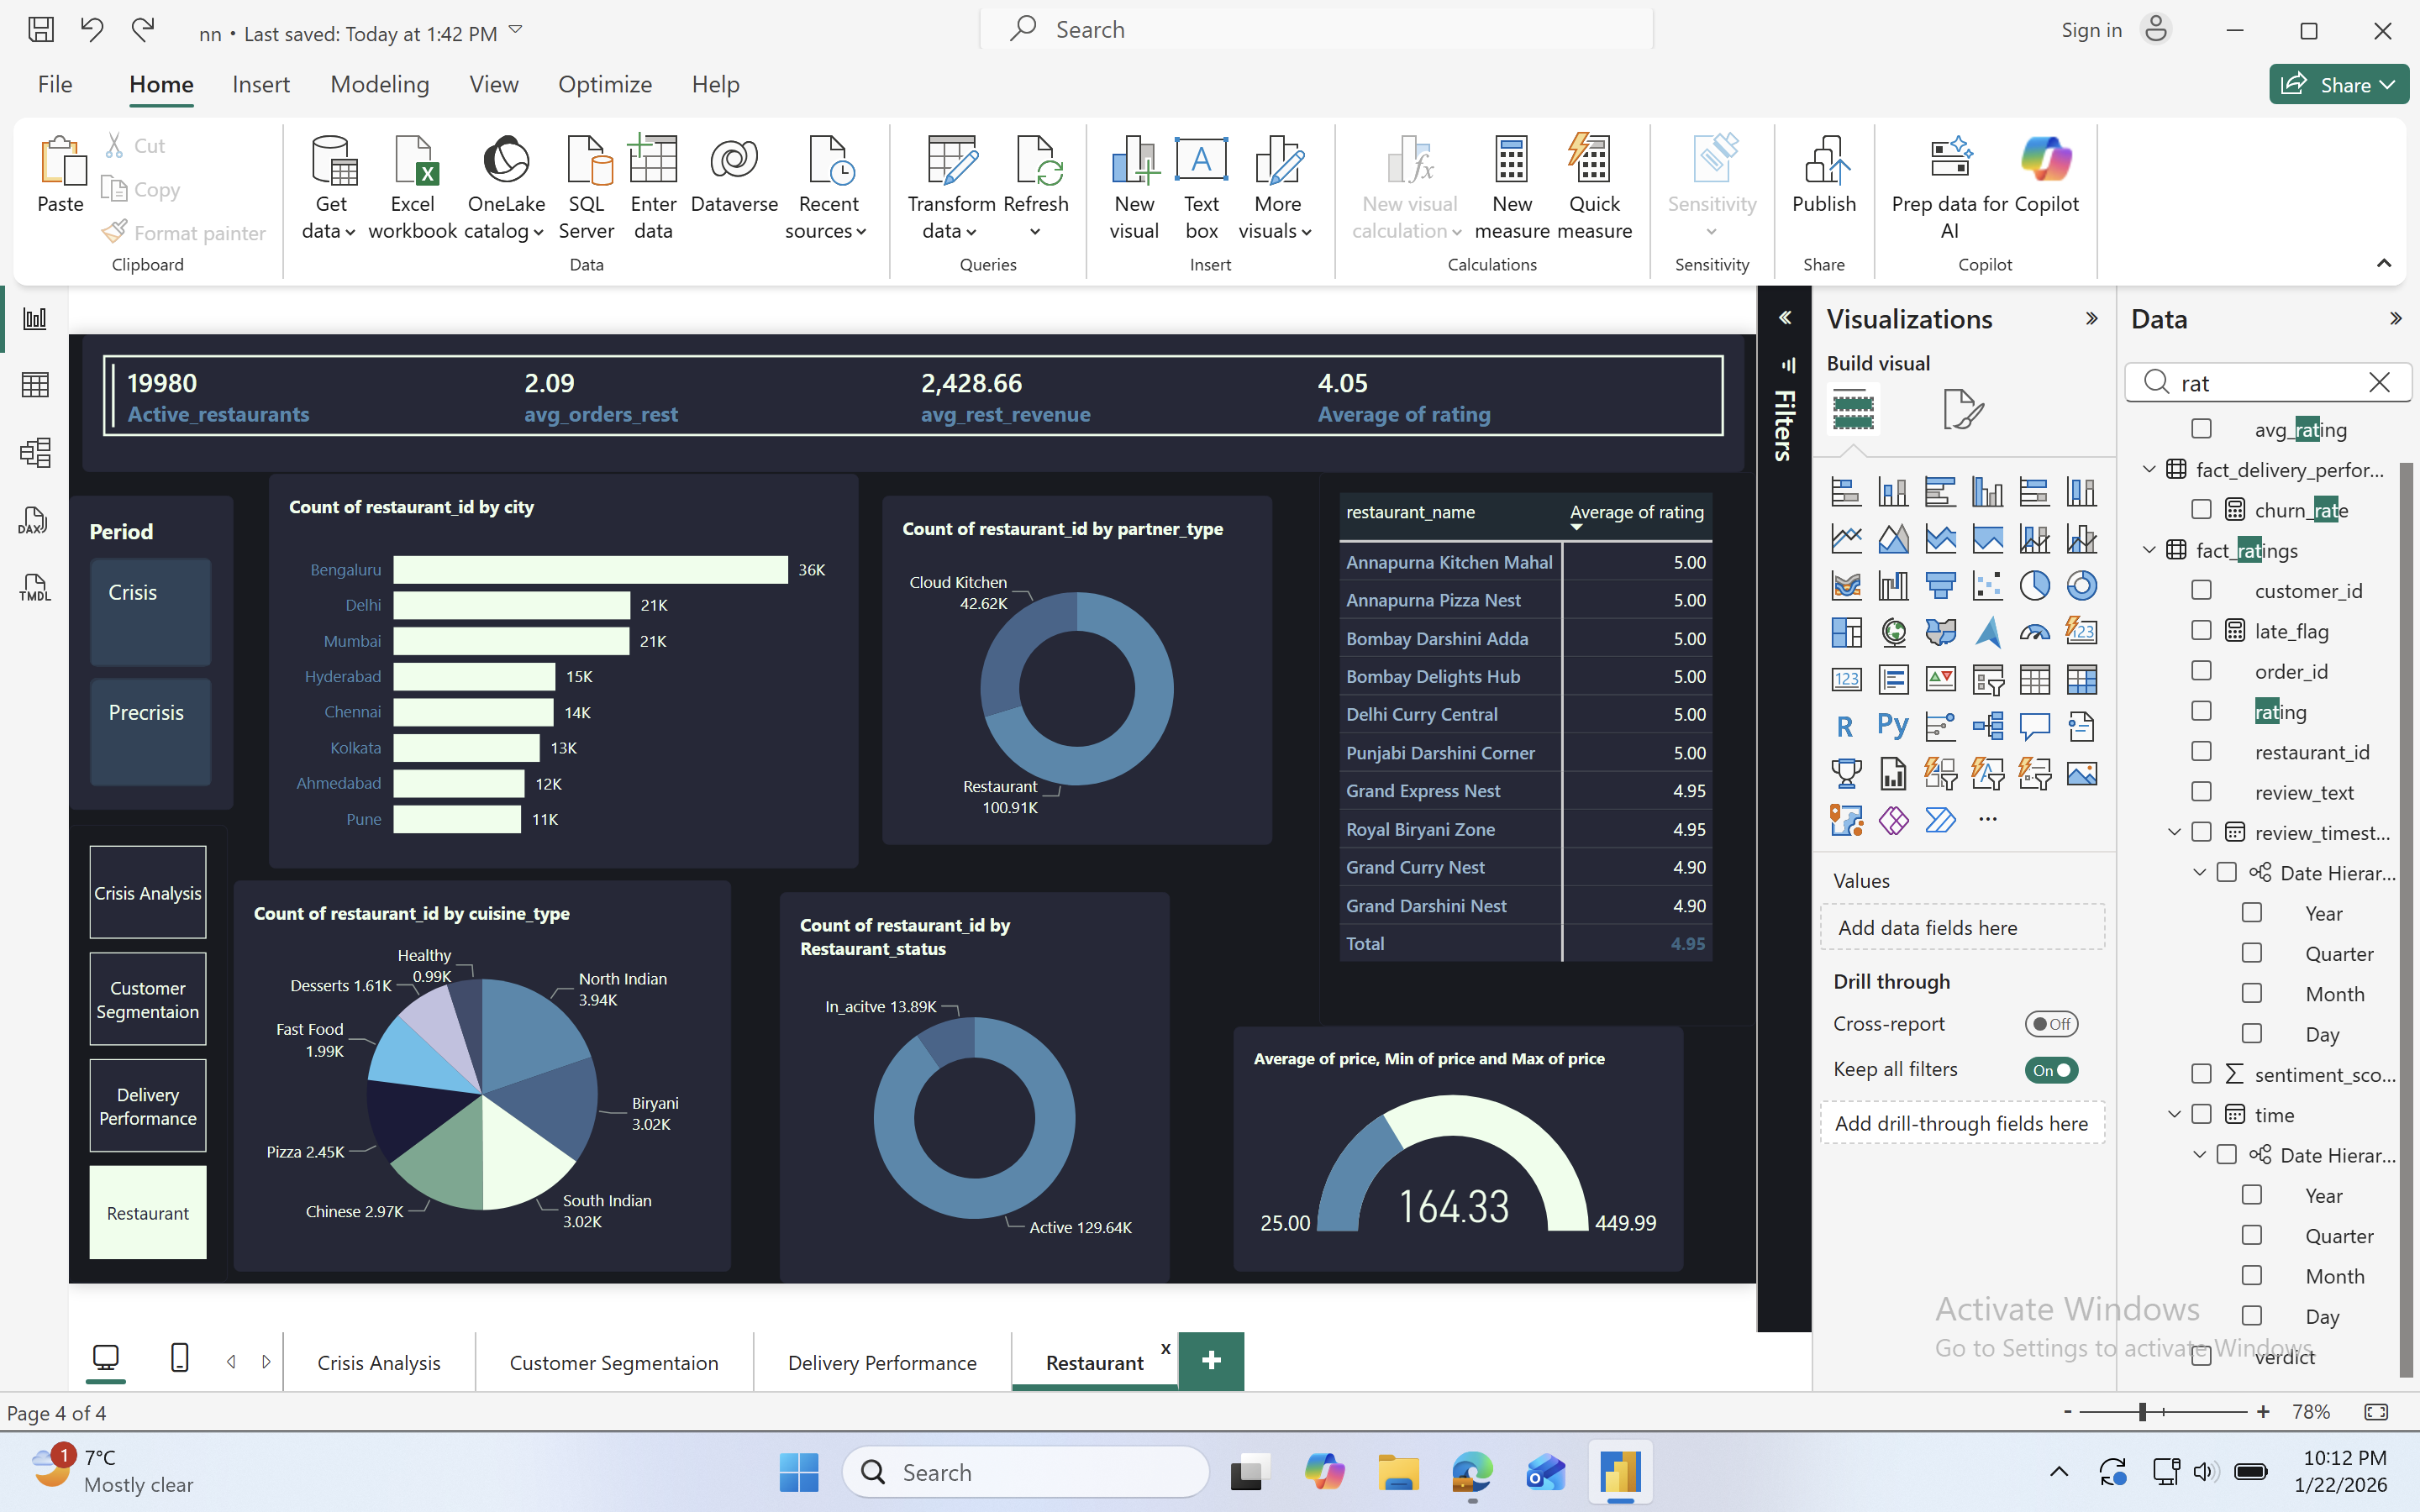

The dashboard page shown, as its layout file describes it:
{"tool":"powerbi","page":{"name":"Restaurant","canvas":[1280,720],"ordinal":3},"visuals":[{"type":"barChart","fields":{"Category":["dim_restaurant.city"],"Y":["CountNonNull(orders.restaurant_id)"]},"box":[151.7,105.8,447.5,299.6],"z":0},{"type":"donutChart","fields":{"Category":["dim_restaurant.partner_type"],"Y":["CountNonNull(orders.restaurant_id)"]},"box":[617.1,122.4,295.8,265.2],"z":1000},{"type":"pieChart","fields":{"Category":["dim_restaurant.cuisine_type"],"Y":["CountNonNull(dim_restaurant.restaurant_id)"]},"box":[124.9,414.3,377.4,297.1],"z":2000},{"type":"pivotTable","fields":{"Rows":["dim_restaurant.restaurant_name"],"Values":["Avg(fact_ratings.rating)"]},"box":[948.5,104.5,331.5,420.7],"z":3000},{"type":"gauge","fields":{"MinValue":["Min(dim_menu_item.price)"],"MaxValue":["Max(dim_menu_item.price)1"],"Y":["Avg(dim_menu_item.price)2"]},"box":[883.5,525.3,341.7,186.1],"z":4000},{"type":"donutChart","fields":{"Category":["dim_restaurant.Restaurant_status"],"Y":["CountNonNull(orders.restaurant_id)"]},"box":[539.3,423.3,295.8,297.1],"z":5000},{"type":"pageNavigator","box":[0,372.3,120.6,347.7],"z":6000},{"type":"advancedSlicerVisual","fields":{"Values":["orders.Period"]},"box":[0,122.4,124.9,238.4],"z":7000},{"type":"multiRowCard","fields":{"Values":["dim_customer.Active_restaurants","dim_customer.avg_orders_rest","dim_customer.avg_rest_revenue","fact_ratings.rating"]},"box":[10.2,0,1260.9,104.5],"z":8000}]}

Visuals, with their boxes on the page's 1280x720 design canvas (x1, y1, x2, y2). These are canvas units, not pixel positions in the 2420x1512 screenshot, which may show the page scaled, cropped or inside an application window:
barChart - dim_restaurant.city x CountNonNull(orders.restaurant_id): box=[152, 106, 599, 405]
donutChart - dim_restaurant.partner_type x CountNonNull(orders.restaurant_id): box=[617, 122, 913, 388]
pieChart - dim_restaurant.cuisine_type x CountNonNull(dim_restaurant.restaurant_id): box=[125, 414, 502, 711]
pivotTable - dim_restaurant.restaurant_name x Avg(fact_ratings.rating): box=[948, 104, 1280, 525]
gauge - Min(dim_menu_item.price) x Max(dim_menu_item.price)1: box=[884, 525, 1225, 711]
donutChart - dim_restaurant.Restaurant_status x CountNonNull(orders.restaurant_id): box=[539, 423, 835, 720]
pageNavigator: box=[0, 372, 121, 720]
advancedSlicerVisual - orders.Period: box=[0, 122, 125, 361]
multiRowCard - dim_customer.Active_restaurants x dim_customer.avg_orders_rest: box=[10, 0, 1271, 104]
